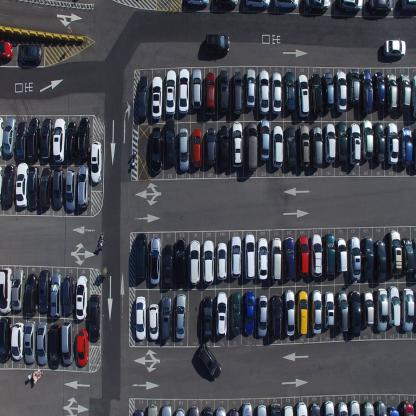car: (198, 342, 221, 380), (348, 235, 362, 283), (388, 230, 402, 276), (400, 288, 414, 333), (398, 126, 413, 168), (359, 68, 373, 113), (348, 289, 361, 337), (374, 288, 388, 332), (309, 73, 323, 117), (26, 116, 40, 160), (53, 115, 66, 162), (15, 161, 28, 208), (0, 267, 13, 314), (174, 238, 186, 288), (246, 122, 258, 172), (202, 240, 215, 286), (243, 290, 256, 336), (204, 32, 230, 55), (75, 275, 88, 321), (244, 232, 256, 281), (216, 290, 228, 339), (164, 118, 176, 167), (39, 167, 53, 209), (0, 314, 12, 363), (361, 235, 374, 280), (348, 122, 361, 167), (77, 164, 90, 209), (310, 288, 322, 336), (257, 68, 269, 116), (165, 68, 177, 116), (231, 121, 243, 169), (387, 285, 401, 326), (397, 73, 411, 114), (296, 74, 309, 118), (61, 320, 74, 364), (77, 116, 90, 160), (65, 168, 78, 212), (40, 117, 53, 161), (135, 233, 147, 280), (188, 239, 200, 286), (270, 236, 282, 283), (283, 289, 295, 336), (134, 294, 146, 341), (3, 116, 17, 156), (11, 321, 25, 361), (334, 70, 347, 113), (386, 122, 399, 165), (270, 295, 282, 341), (298, 122, 310, 168), (218, 124, 230, 170), (50, 271, 62, 317), (373, 121, 386, 163), (284, 125, 297, 167), (52, 168, 65, 210), (2, 164, 15, 206), (310, 233, 322, 278), (374, 238, 386, 283), (204, 70, 216, 115), (259, 118, 271, 163), (49, 323, 61, 368), (39, 268, 51, 313), (36, 320, 48, 365), (360, 118, 373, 159), (323, 122, 336, 163), (65, 120, 78, 161), (372, 71, 386, 109), (297, 234, 309, 278), (151, 75, 163, 119), (137, 75, 149, 119), (336, 120, 348, 164), (311, 124, 323, 168), (151, 126, 162, 174), (90, 139, 102, 183), (89, 293, 100, 341), (28, 166, 40, 210), (24, 320, 36, 364), (16, 43, 42, 63), (334, 235, 348, 272), (175, 293, 186, 340), (161, 294, 172, 341), (283, 236, 295, 279), (323, 232, 335, 275), (284, 71, 296, 114), (270, 71, 282, 114), (25, 273, 37, 316), (385, 73, 398, 112), (230, 233, 241, 279), (297, 289, 308, 335), (230, 290, 241, 336), (202, 294, 213, 340), (336, 290, 348, 332), (16, 120, 28, 162), (12, 268, 24, 310), (150, 236, 160, 286), (257, 236, 268, 281), (178, 68, 189, 113), (347, 68, 360, 106), (323, 290, 335, 331), (257, 294, 268, 338), (232, 71, 243, 115), (272, 125, 283, 169), (178, 127, 189, 171), (361, 290, 374, 327), (148, 302, 160, 342), (76, 327, 88, 367), (62, 274, 74, 314), (191, 67, 202, 110), (322, 71, 334, 110), (163, 243, 173, 289), (383, 37, 406, 57), (218, 68, 228, 114), (402, 236, 414, 274), (191, 128, 202, 169), (216, 241, 227, 280), (246, 68, 256, 108), (206, 127, 216, 167), (368, 0, 394, 15), (0, 39, 14, 63), (303, 0, 330, 12), (338, 0, 363, 12), (410, 74, 416, 120), (274, 0, 300, 10), (400, 400, 415, 416), (400, 0, 416, 14), (411, 128, 416, 171), (295, 400, 308, 416), (245, 0, 270, 8), (361, 402, 375, 416), (322, 400, 335, 415), (375, 400, 387, 416), (348, 400, 360, 416), (214, 0, 238, 8), (335, 402, 348, 416), (269, 402, 282, 416), (240, 401, 252, 415), (186, 0, 210, 7), (308, 403, 321, 415), (386, 405, 400, 415), (132, 406, 146, 416), (256, 403, 267, 415), (161, 403, 172, 415), (147, 403, 158, 415), (412, 238, 415, 280), (0, 116, 3, 158), (282, 404, 293, 415), (0, 166, 3, 206), (215, 406, 226, 416), (202, 405, 213, 415), (189, 405, 200, 415), (174, 407, 186, 415), (229, 408, 239, 416)
